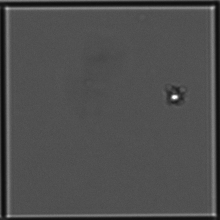Living Cell: (165, 83, 188, 107)
